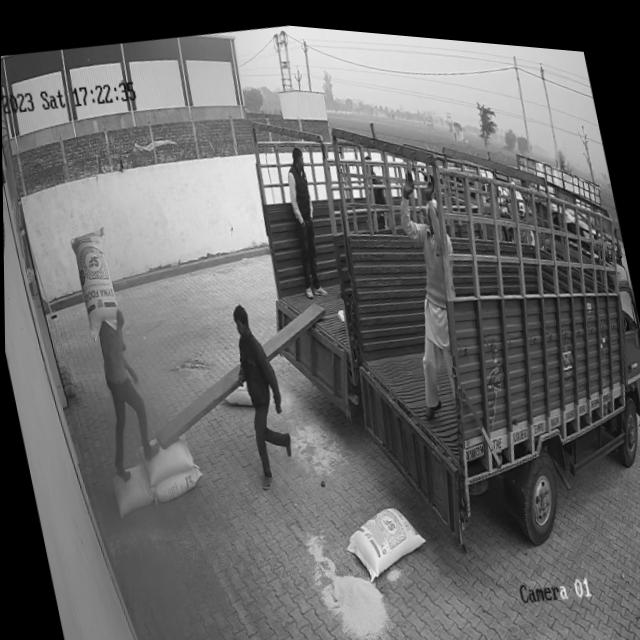sack: (338, 490, 431, 581), (68, 227, 123, 343), (136, 429, 197, 489), (107, 458, 154, 515), (148, 459, 205, 503)
